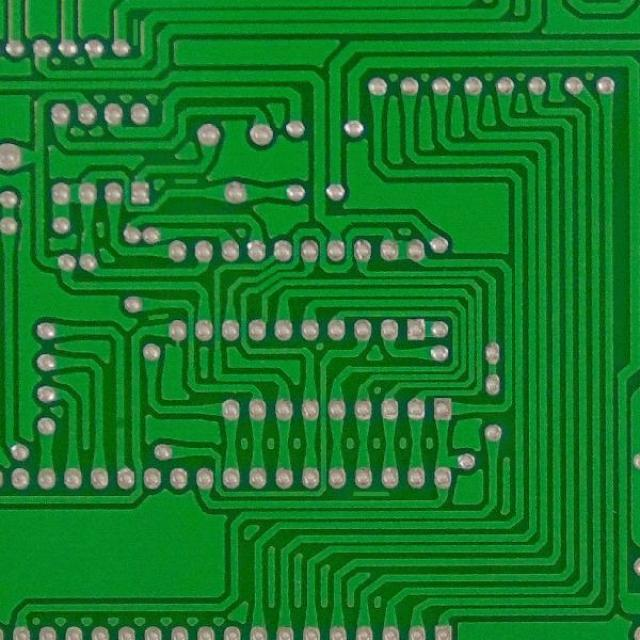spurious_copper: (350, 486, 391, 502), (170, 172, 202, 186), (146, 310, 172, 326)
